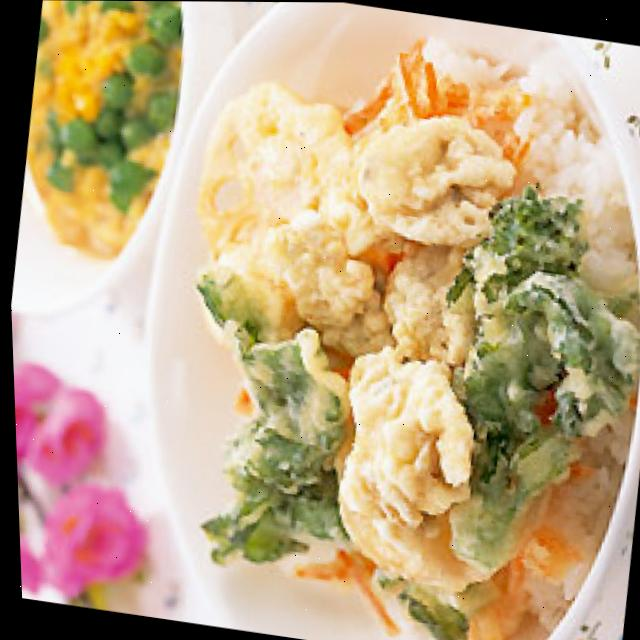熟制海鲜: (111, 1, 640, 640)
